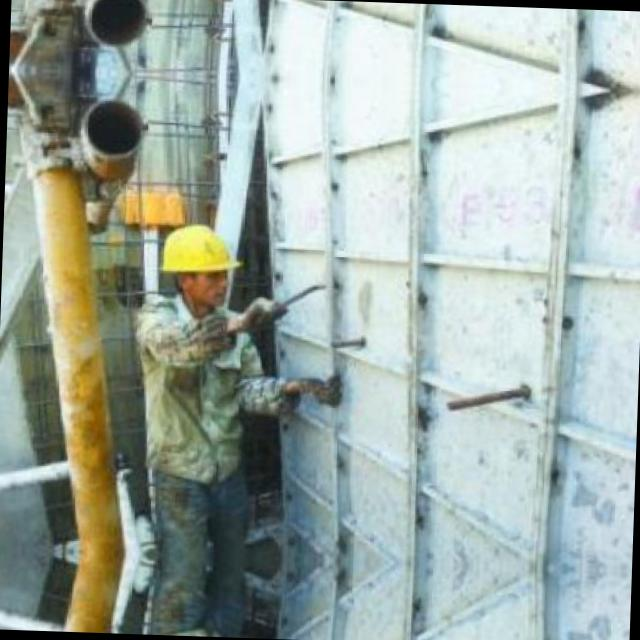helmet: (153, 216, 242, 310)
